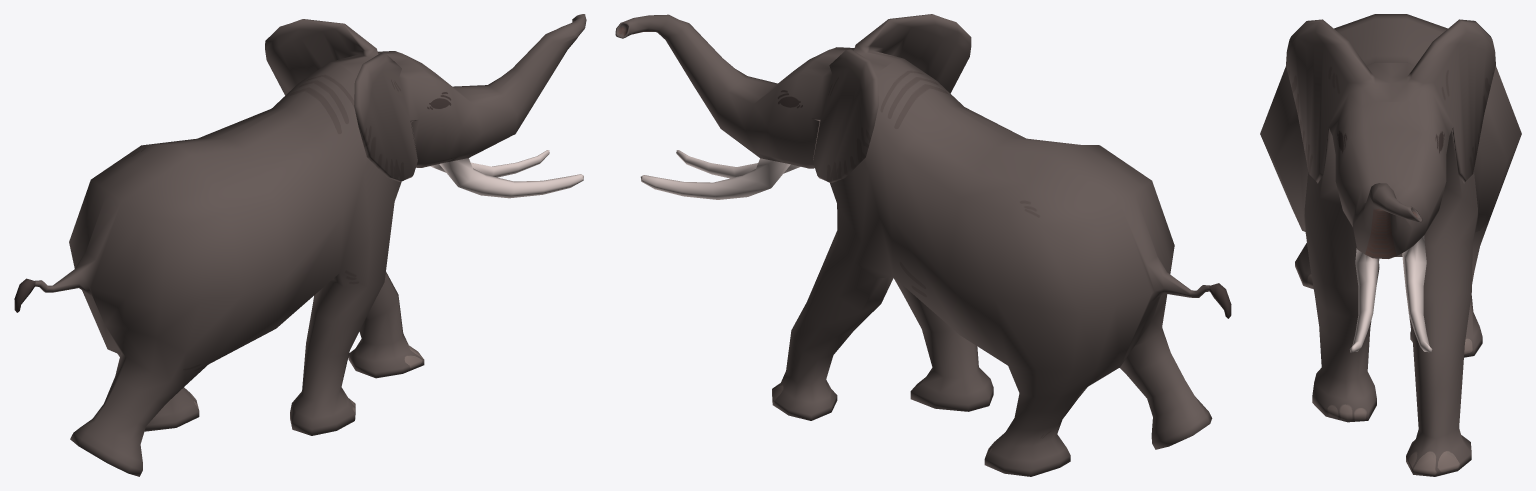
Rendered from ElephantSmith.glb.
The picture shows the model from 3 angles, left to right: view 1: azimuth 30°, elevation 25°; view 2: azimuth 150°, elevation 25°; view 3: azimuth 270°, elevation 25°; orthographic projection. The views are drawn at different scales.
Parts seen in each view (by area): view 1: Krop.001; view 2: Krop.001; view 3: Krop.001.
Part boxes in pixels (x1,y1,x2,y2): Krop.001: (14, 14, 586, 476); Krop.001: (615, 14, 1231, 476); Krop.001: (1260, 14, 1521, 476).
Bounding box in the file's own units: 12.19 × 7.15 × 4.23.
1 material, 1 textured.
